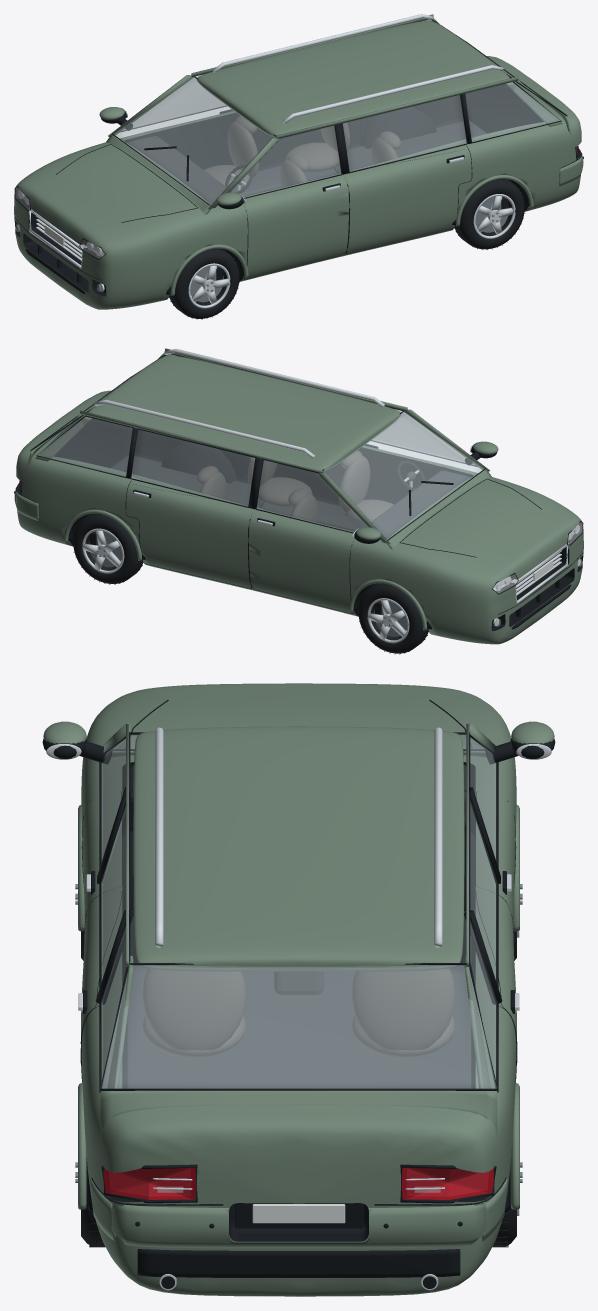
File: generic-station-wagon.glb
3 renders of one model, top to bottom at view 1: azimuth 30°, elevation 25°; view 2: azimuth 150°, elevation 25°; view 3: azimuth 270°, elevation 25°, orthographic. The views are drawn at different scales.
Visible parts, largest first — view 1: Original station_wagon fourteen-section body shell, Crowned roof pressing, Raked transparent windscreen, Separate closed door panel.001, Separate closed door panel, Rear door transparent glass, Front door transparent glass, Extended rear quarter glazing, Separate closed door panel.002, Interior carpet, Original tyre carcass and shaped sidewalls.002, Original tyre carcass and shaped sidewalls (+24 smaller); view 2: Original station_wagon fourteen-section body shell, Crowned roof pressing, Raked transparent windscreen, Separate closed door panel.003, Separate closed door panel.002, Rear door transparent glass.001, Front door transparent glass.001, Extended rear quarter glazing.001, Separate closed door panel, Interior carpet, Original tyre carcass and shaped sidewalls.003, Original tyre carcass and shaped sidewalls.001 (+25 smaller); view 3: Crowned roof pressing, Original station_wagon fourteen-section body shell, Rear transparent hatch glass, Interior carpet, Formed painted rear bumper cover, Sculpted rear lower bumper insert, Painted rear glass sill, Contoured seat back.002, Contoured seat back.003, Separate closed door panel.002, Separate closed door panel, Separate closed door panel.001 (+27 smaller).
Boxes of the visible parts, x1,y1,x2,y2 form: Original station_wagon fourteen-section body shell: (14,56,581,309); Crowned roof pressing: (197,20,509,136); Raked transparent windscreen: (114,77,275,204); Separate closed door panel.001: (343,149,471,253); Separate closed door panel: (243,174,349,278); Rear door transparent glass: (343,95,466,171); Front door transparent glass: (230,125,340,197); Extended rear quarter glazing: (465,82,560,141); Separate closed door panel.002: (145,111,239,169); Interior carpet: (253,121,486,181); Original tyre carcass and shaped sidewalls.002: (455,179,524,249); Original tyre carcass and shaped sidewalls: (170,248,239,318); Original station_wagon fourteen-section body shell: (16,390,583,644); Crowned roof pressing: (88,355,400,471); Raked transparent windscreen: (323,411,484,539); Separate closed door panel.003: (126,484,254,588); Separate closed door panel.002: (248,509,354,613); Rear door transparent glass.001: (131,429,255,506); Front door transparent glass.001: (256,460,367,532); Extended rear quarter glazing.001: (38,417,132,476); Separate closed door panel: (358,445,452,504); Interior carpet: (111,455,345,515); Original tyre carcass and shaped sidewalls.003: (73,513,142,583); Original tyre carcass and shaped sidewalls.001: (358,583,427,653); Crowned roof pressing: (133,726,464,971); Original station_wagon fourteen-section body shell: (81,683,516,1296); Rear transparent hatch glass: (101,965,496,1088); Interior carpet: (126,911,471,1088); Formed painted rear bumper cover: (111,1201,486,1248); Sculpted rear lower bumper insert: (137,1249,460,1277); Painted rear glass sill: (100,1090,497,1138); Contoured seat back.002: (142,968,246,1050); Contoured seat back.003: (351,968,455,1050); Separate closed door panel.002: (471,791,515,986); Separate closed door panel: (82,791,126,986); Separate closed door panel.001: (81,891,126,1088).
Size of the model in its own units: 4.79 by 1.56 by 2.16.
13 materials, 13 textured.
